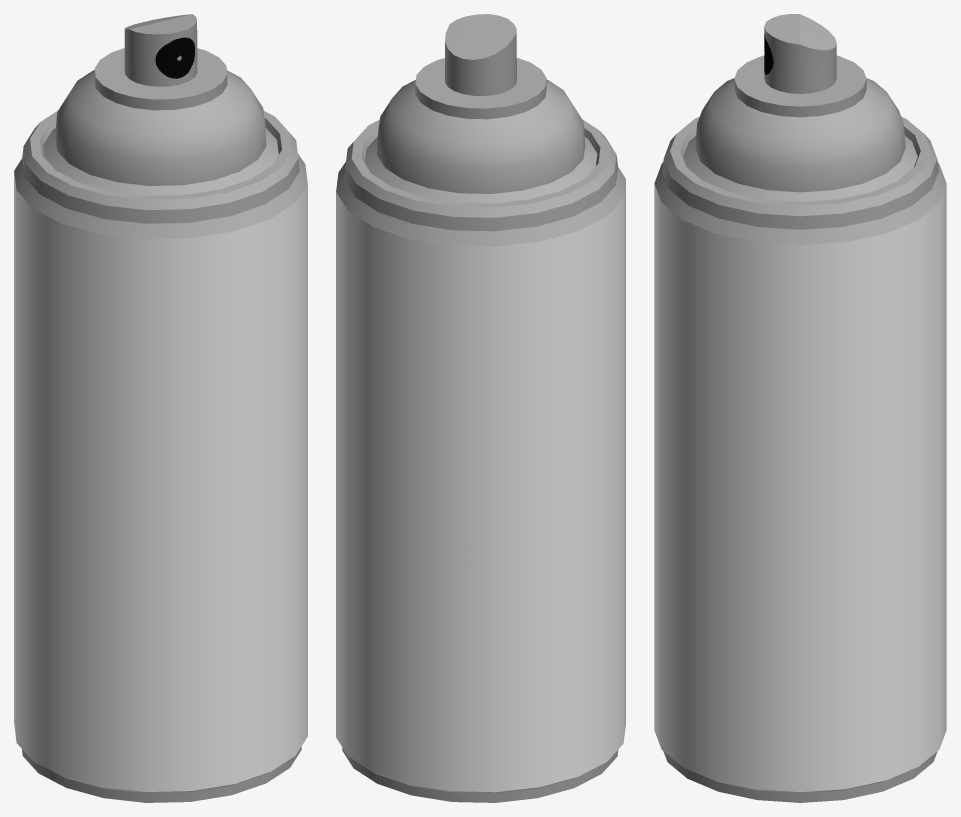
The model's file is SprayCan (1).fbx.
The picture shows the model from 3 angles, left to right: view 1: azimuth 30°, elevation 25°; view 2: azimuth 150°, elevation 25°; view 3: azimuth 270°, elevation 25°; orthographic projection.
Visible parts, largest first — view 1: SprayCan, Spray; view 2: SprayCan, Spray; view 3: SprayCan, Spray.
Boxes of the visible parts, x1,y1,x2,y2 form: SprayCan: (14, 171, 307, 791); Spray: (14, 14, 307, 802); SprayCan: (336, 180, 625, 792); Spray: (336, 14, 625, 802); SprayCan: (654, 184, 946, 792); Spray: (654, 14, 946, 802).
Size of the model in its own units: 12.51 by 33.88 by 12.51.
1 material, 1 textured.
